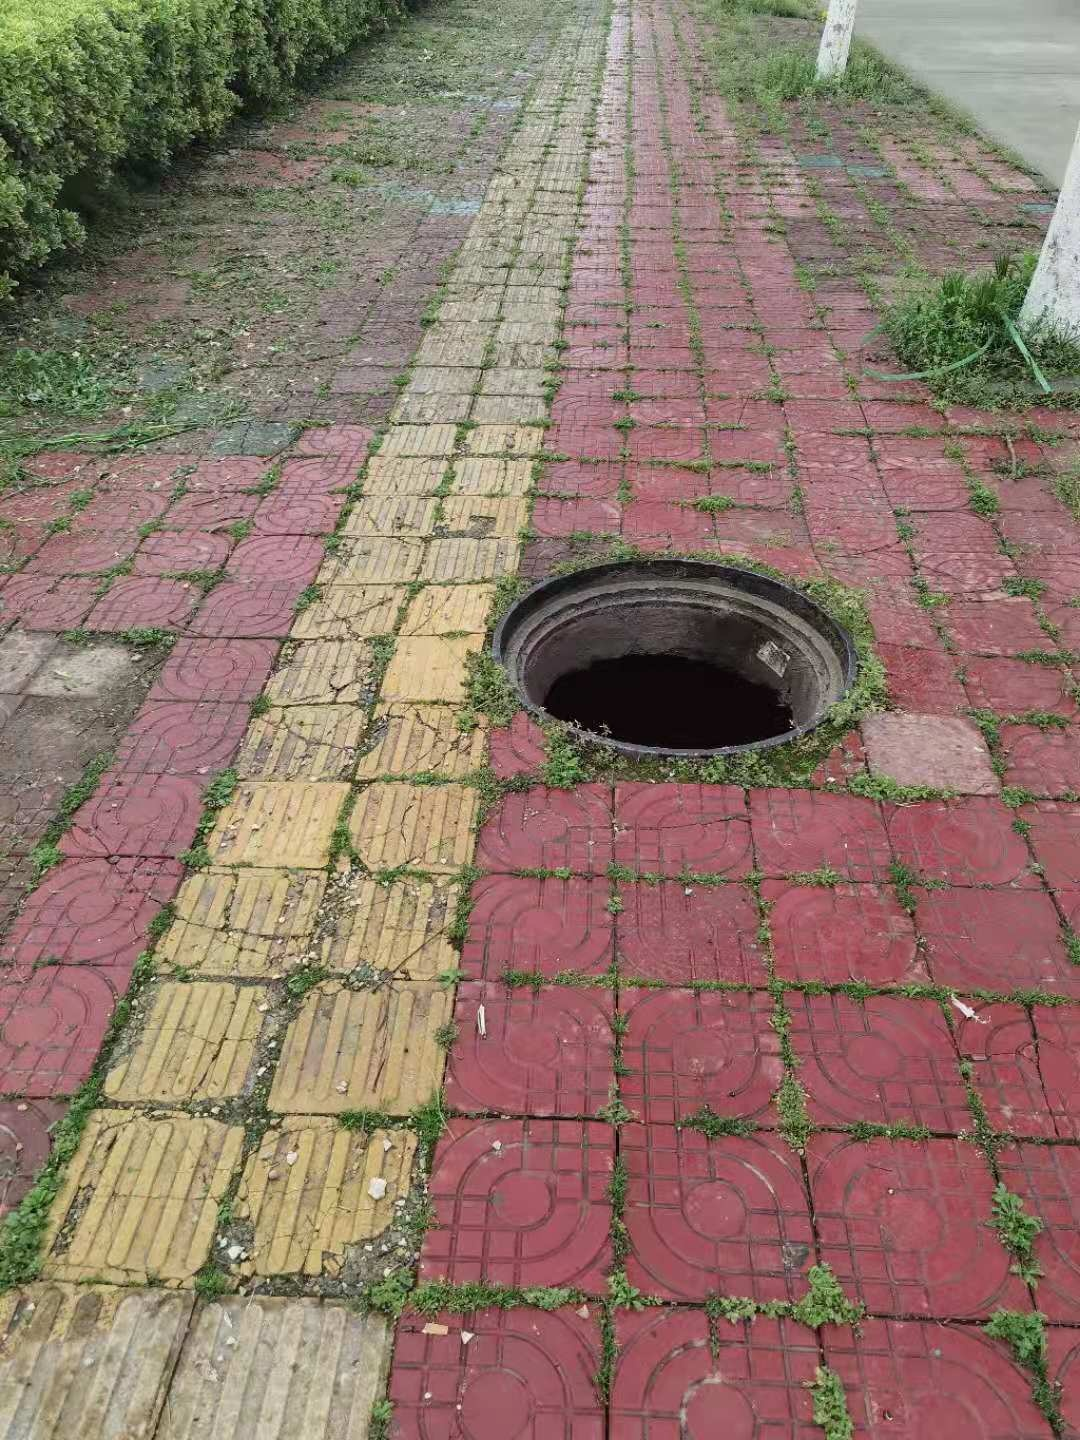lose: (495, 552, 857, 759)
